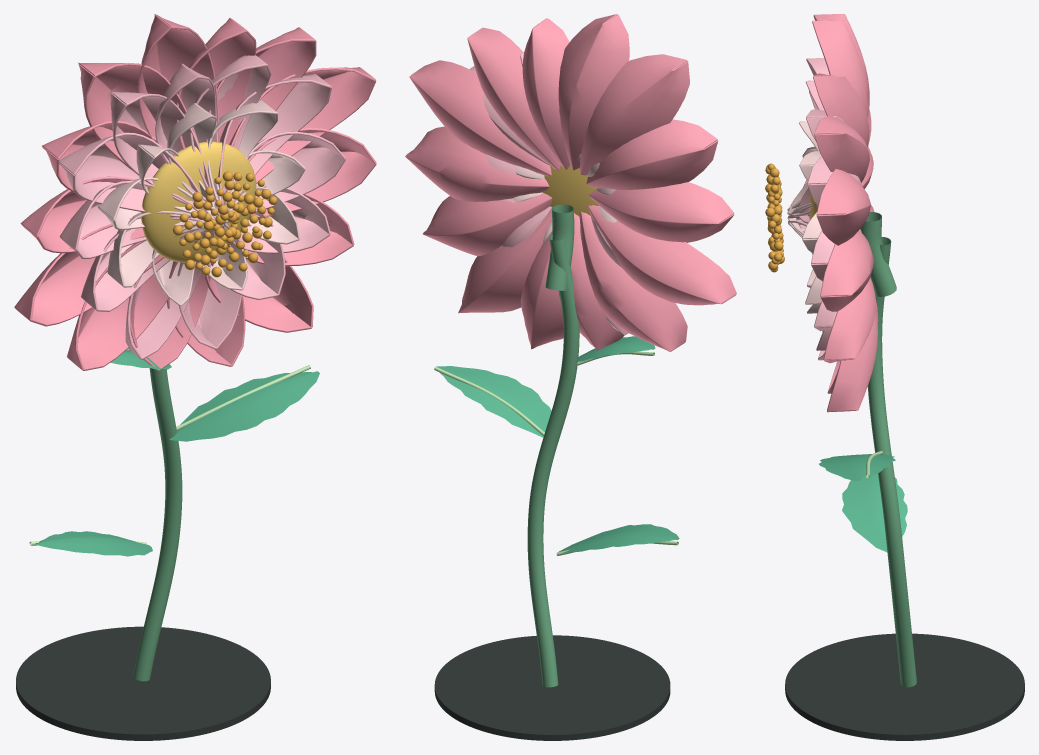
Rendered from flower.glb.
3 views of the same model, side by side, from view 1: azimuth 30°, elevation 25°; view 2: azimuth 150°, elevation 25°; view 3: azimuth 270°, elevation 25° (orthographic). The views are drawn at different scales.
Parts seen in each view (by area): view 1: thin_display_base, golden_pollen_disk, arched_moss_stem, right_mid_leaf, outer_petal_10, outer_petal_09, middle_petal_06, outer_petal_06, outer_petal_05, outer_petal_02, middle_petal_02, middle_petal_05 (+28 smaller); view 2: thin_display_base, arched_moss_stem, outer_petal_06, outer_petal_09, outer_petal_05, outer_petal_07, outer_petal_08, outer_petal_02, outer_petal_10, outer_petal_01, outer_petal_03, outer_petal_14 (+11 smaller); view 3: thin_display_base, arched_moss_stem, outer_petal_02, outer_petal_01, left_lower_leaf, outer_petal_14, outer_petal_05, outer_petal_03, outer_petal_13, outer_petal_04, flower_neck, right_mid_leaf (+6 smaller).
Part boxes in pixels (x1,y1,x2,y2): thin_display_base: [16, 626, 270, 740]; golden_pollen_disk: [141, 141, 256, 262]; arched_moss_stem: [133, 368, 182, 681]; right_mid_leaf: [169, 371, 319, 441]; outer_petal_10: [67, 240, 185, 370]; outer_petal_09: [14, 217, 164, 326]; middle_petal_06: [59, 132, 202, 217]; outer_petal_06: [78, 62, 199, 171]; outer_petal_05: [137, 14, 219, 162]; outer_petal_02: [222, 67, 376, 188]; middle_petal_02: [218, 73, 331, 204]; middle_petal_05: [110, 91, 211, 205]; thin_display_base: [434, 635, 670, 740]; arched_moss_stem: [527, 235, 579, 687]; outer_petal_06: [579, 54, 689, 175]; outer_petal_09: [588, 205, 736, 305]; outer_petal_05: [558, 14, 629, 170]; outer_petal_07: [586, 119, 718, 189]; outer_petal_08: [589, 182, 734, 242]; outer_petal_02: [409, 60, 551, 176]; outer_petal_10: [579, 211, 687, 351]; outer_petal_01: [405, 126, 549, 201]; outer_petal_03: [467, 27, 560, 170]; outer_petal_14: [423, 193, 552, 256]; thin_display_base: [785, 633, 1024, 740]; arched_moss_stem: [867, 237, 916, 687]; outer_petal_02: [816, 169, 871, 245]; outer_petal_01: [808, 214, 873, 311]; left_lower_leaf: [842, 473, 907, 552]; outer_petal_14: [823, 277, 875, 363]; outer_petal_05: [812, 20, 868, 119]; outer_petal_03: [814, 115, 869, 182]; outer_petal_13: [827, 311, 877, 412]; outer_petal_04: [813, 73, 869, 147]; flower_neck: [860, 212, 896, 296]; right_mid_leaf: [819, 454, 895, 481].
Bounding box in the file's own units: 1.94 × 3.77 × 1.34.
